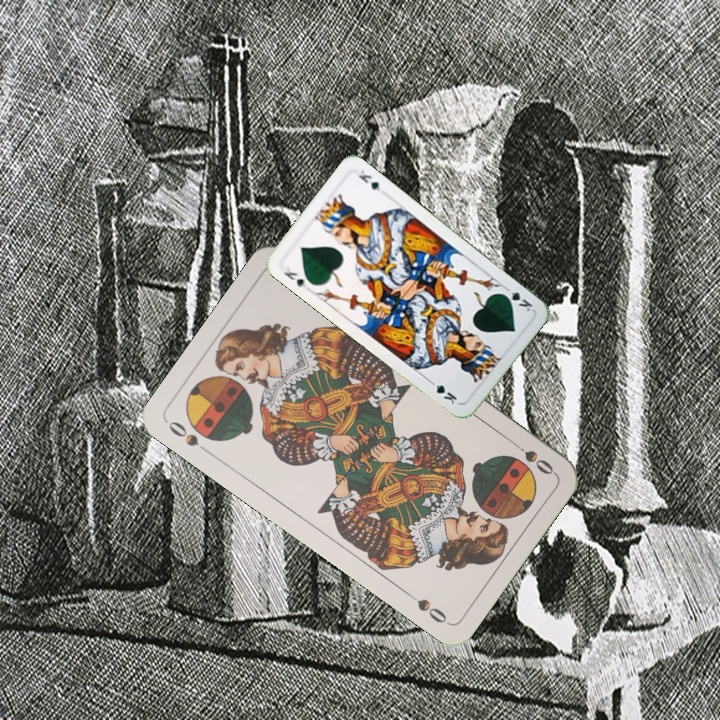GK: (498, 283, 535, 314), (280, 263, 309, 291)
SO: (506, 436, 557, 478), (164, 416, 214, 458)
